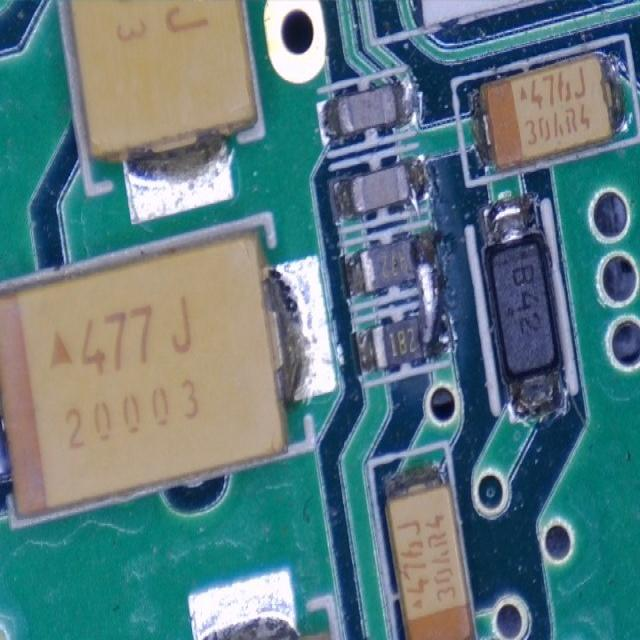Short_circuit: (402, 230, 452, 358)
